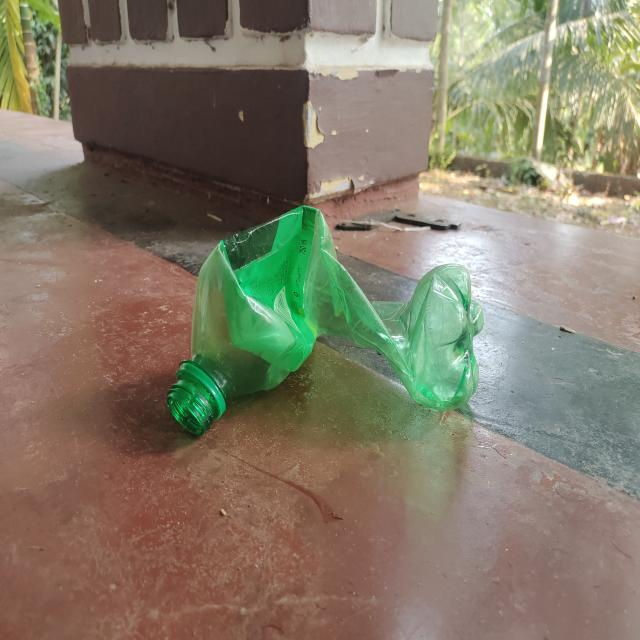plastic: (165, 202, 488, 437)
